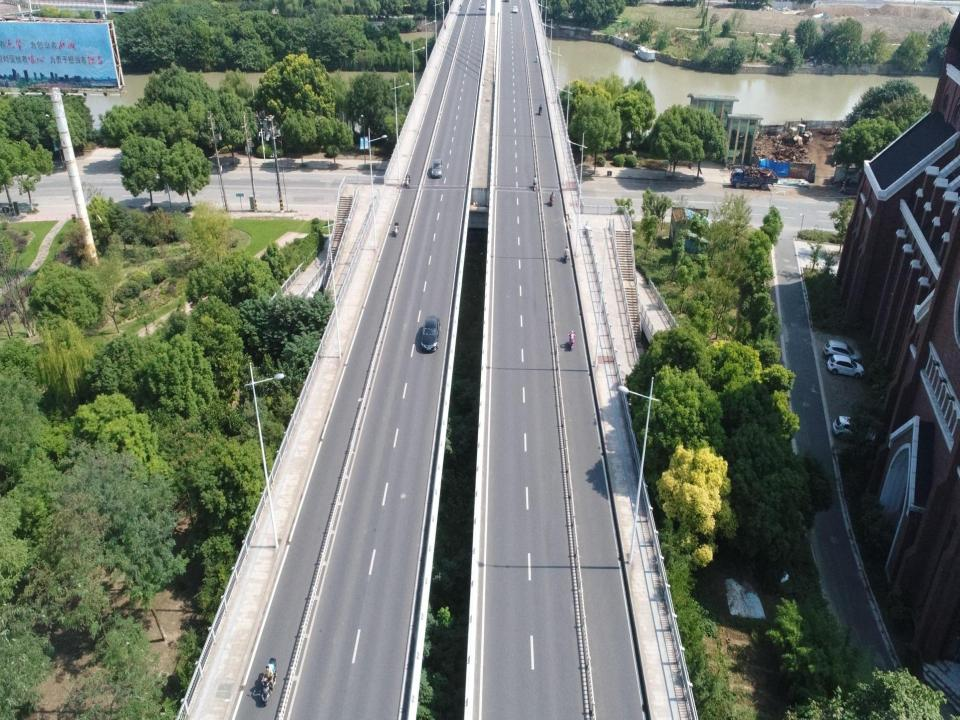car: (831, 415, 880, 445), (826, 352, 866, 378), (822, 340, 865, 362), (421, 316, 441, 353), (430, 158, 443, 179), (480, 2, 486, 10), (513, 5, 518, 13), (459, 6, 461, 10)
truck: (730, 165, 778, 192)
